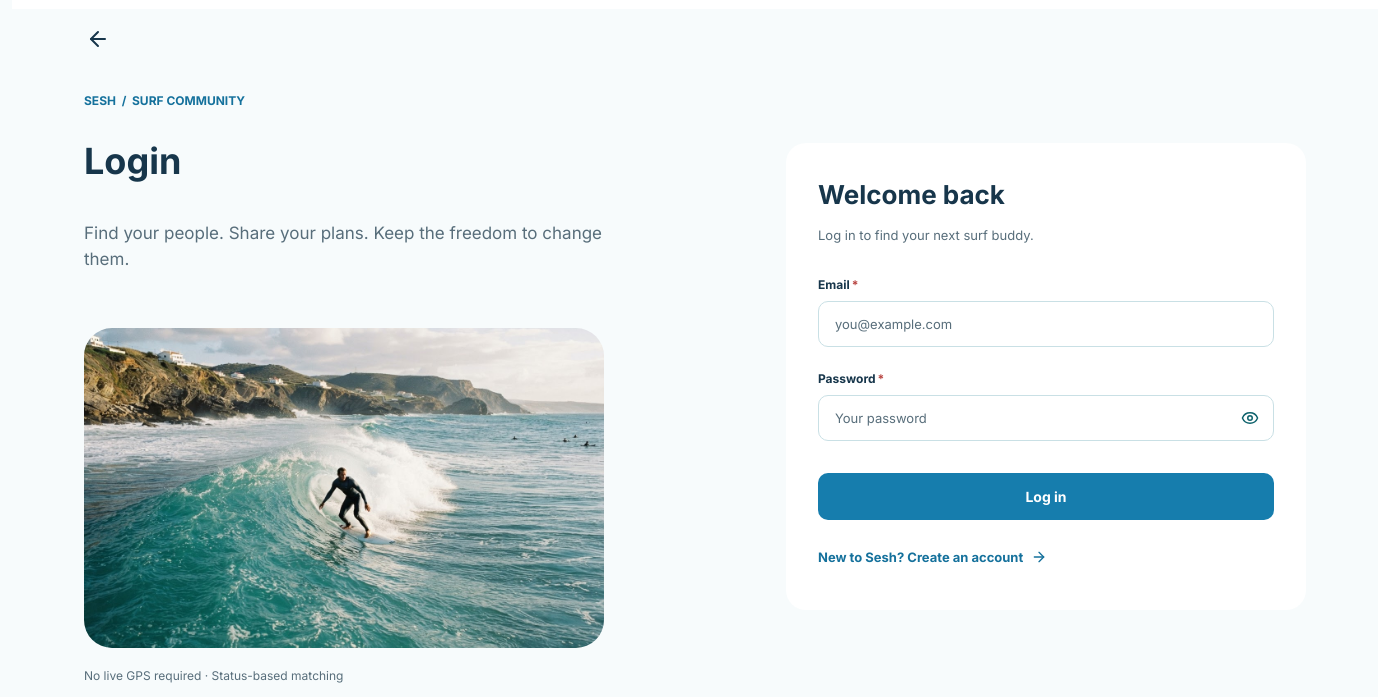
Test: Login page › ignores an unsafe returnTo and goes to /discover
The image size is (1378, 697).
Expected: the heading "Welcome back" is shown, [818,179,1005,210]
In the field labelled "Email*": (1046, 324) [818,301,1274,347], type "surfer@example.com"
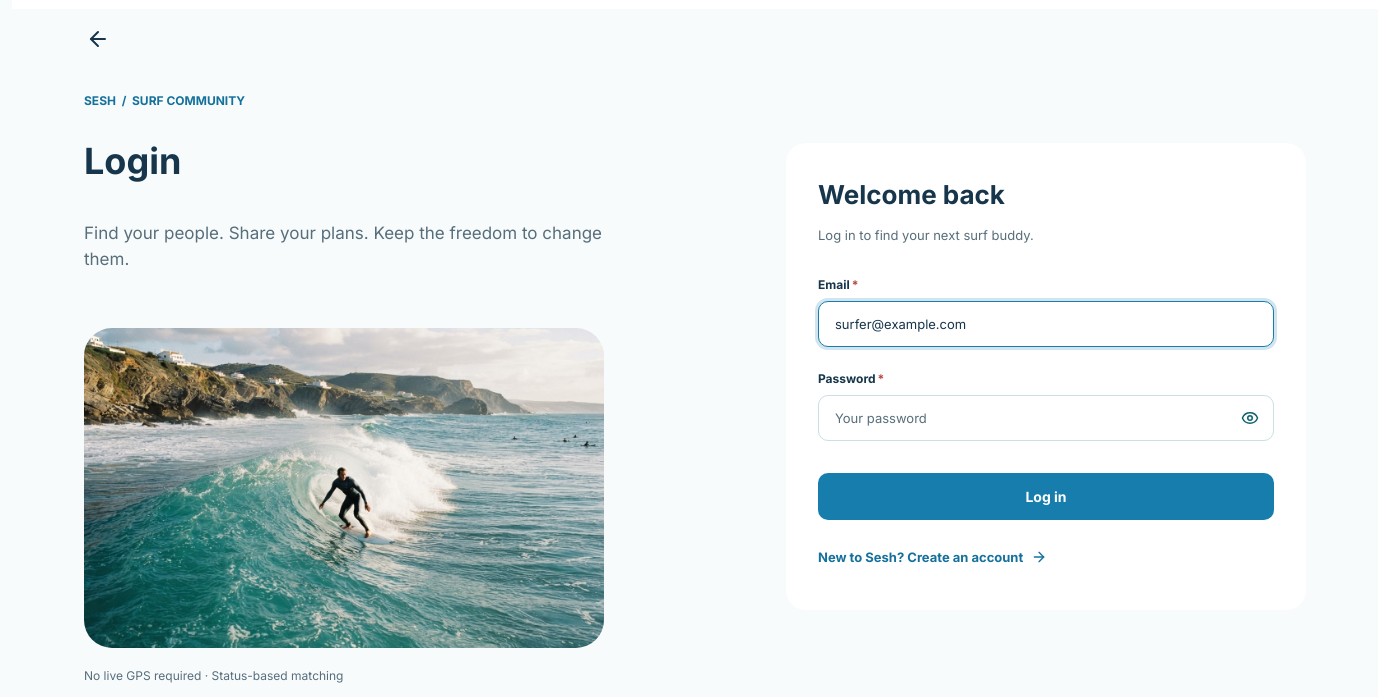
In the password field labelled "Password*": (1046, 418) [818,395,1274,441], type "correct horse battery"
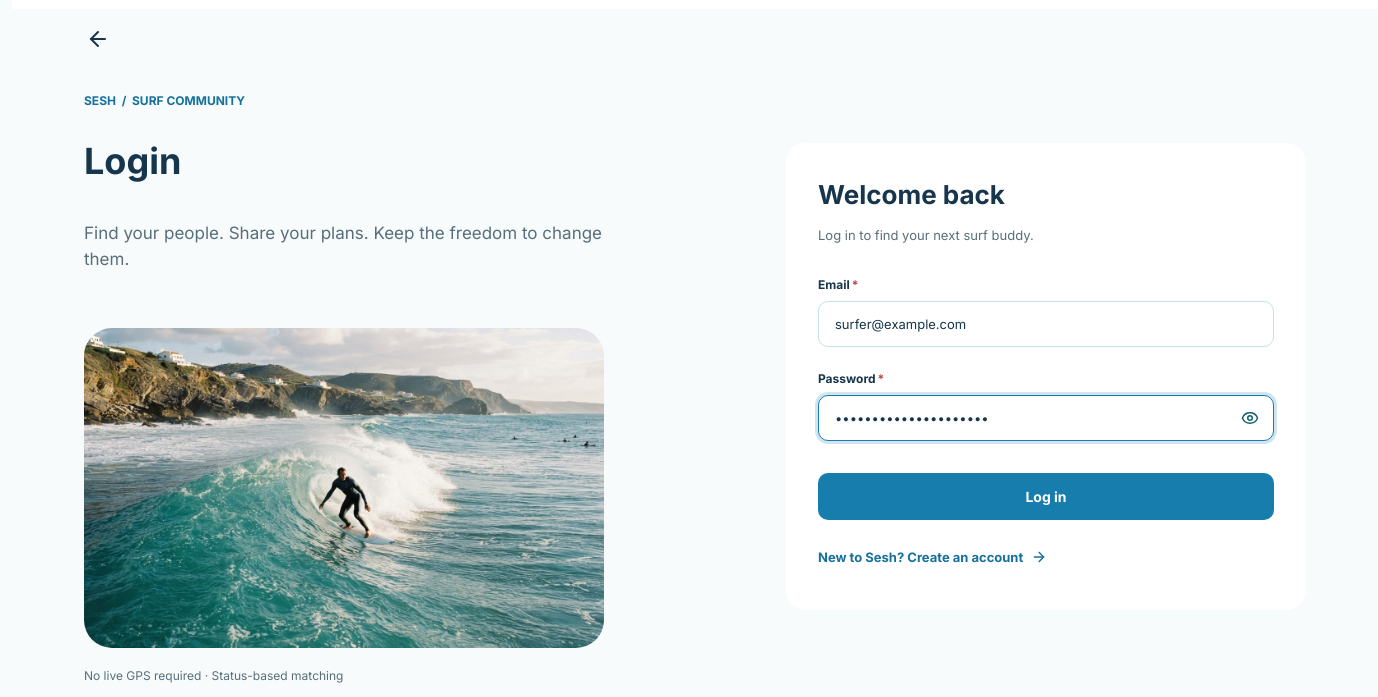
Click the button "Log in": (1046, 497) [818,473,1274,520]
(page scrolled)
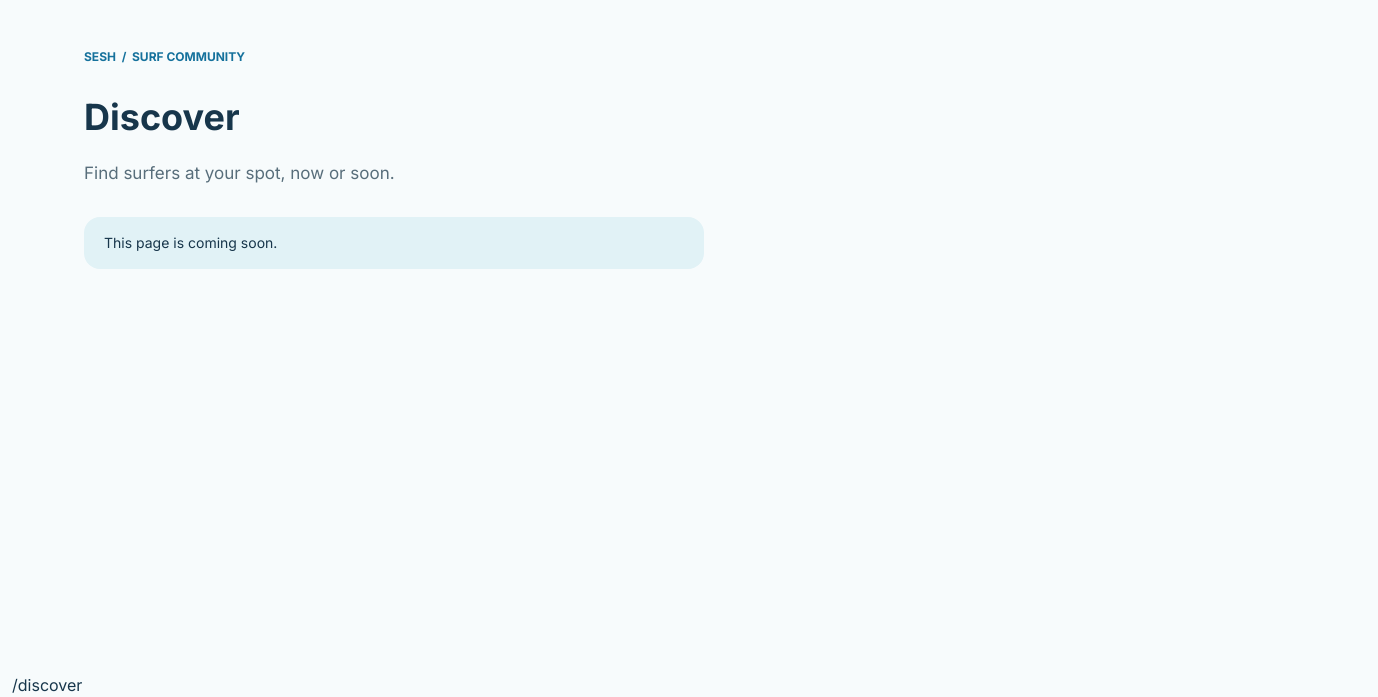
Result: the heading "Discover" is shown at [84,95,240,139]
Result: the text with test id "location" reads "/discover" at [12,675,82,695]
